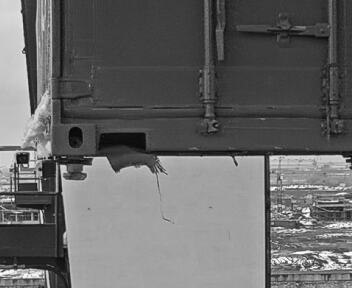twist_lock_1: (52, 152, 97, 186)
